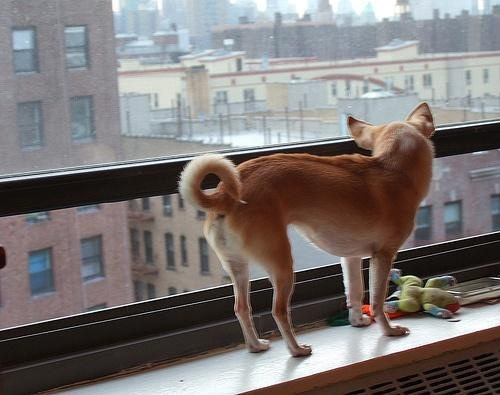dog: (178, 101, 437, 360)
